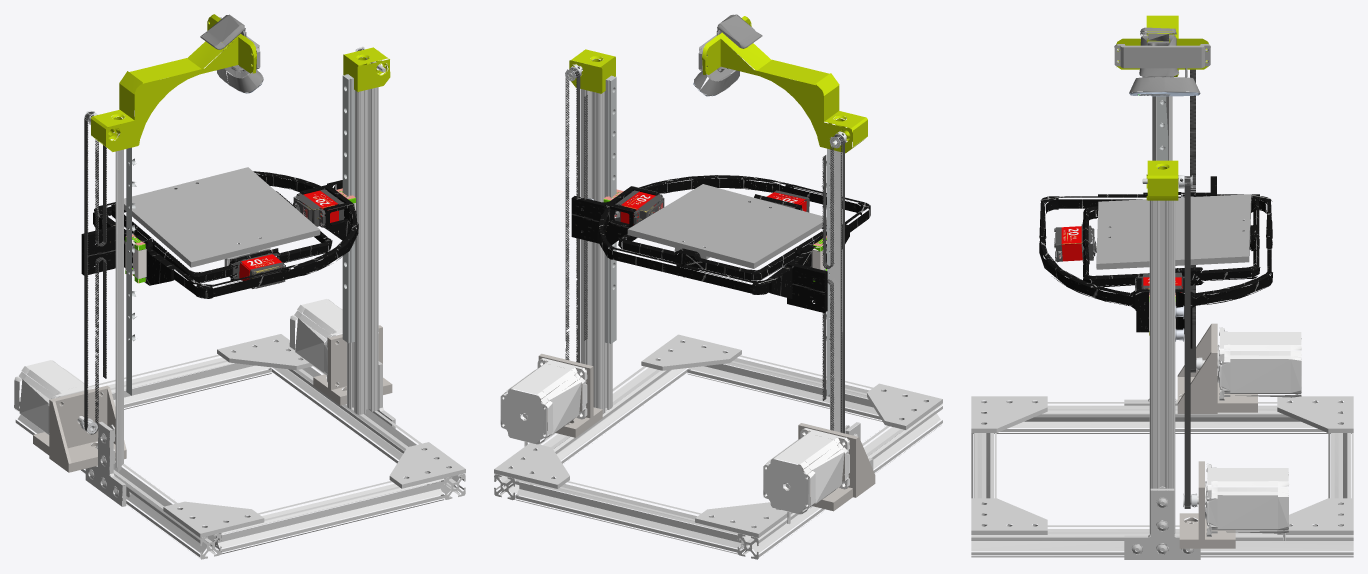
File: pingpongtest.glb
The picture shows the model from 3 angles, left to right: view 1: azimuth 30°, elevation 25°; view 2: azimuth 150°, elevation 25°; view 3: azimuth 270°, elevation 25°; orthographic projection. The views are drawn at different scales.
Visible parts, largest first — view 1: 1327K509_Rotary Shaft-1, DS3218MG MS24 Digital Servo 270-1.001, 47065T411_T-Slotted Framing (1)-1.001; view 2: 1327K509_Rotary Shaft-1, DS3218MG MS24 Digital Servo 270-1.001, 47065T411_T-Slotted Framing (1)-1.001; view 3: 1327K509_Rotary Shaft-1, DS3218MG MS24 Digital Servo 270-1.001, 47065T411_T-Slotted Framing (1)-1.001.
Boxes of the visible parts, x1=… form: 1327K509_Rotary Shaft-1: x1=14, y1=14, x2=465, y2=559; DS3218MG MS24 Digital Servo 270-1.001: x1=81, y1=167, x2=358, y2=298; 47065T411_T-Slotted Framing (1)-1.001: x1=113, y1=132, x2=146, y2=472; 1327K509_Rotary Shaft-1: x1=494, y1=14, x2=942, y2=559; DS3218MG MS24 Digital Servo 270-1.001: x1=571, y1=175, x2=870, y2=312; 47065T411_T-Slotted Framing (1)-1.001: x1=812, y1=133, x2=845, y2=432; 1327K509_Rotary Shaft-1: x1=971, y1=15, x2=1353, y2=559; DS3218MG MS24 Digital Servo 270-1.001: x1=1039, y1=176, x2=1272, y2=348; 47065T411_T-Slotted Framing (1)-1.001: x1=1152, y1=77, x2=1172, y2=168.
Size of the model in its own units: 0.3864 by 0.5049 by 0.381.
45 materials, 3 textured.
